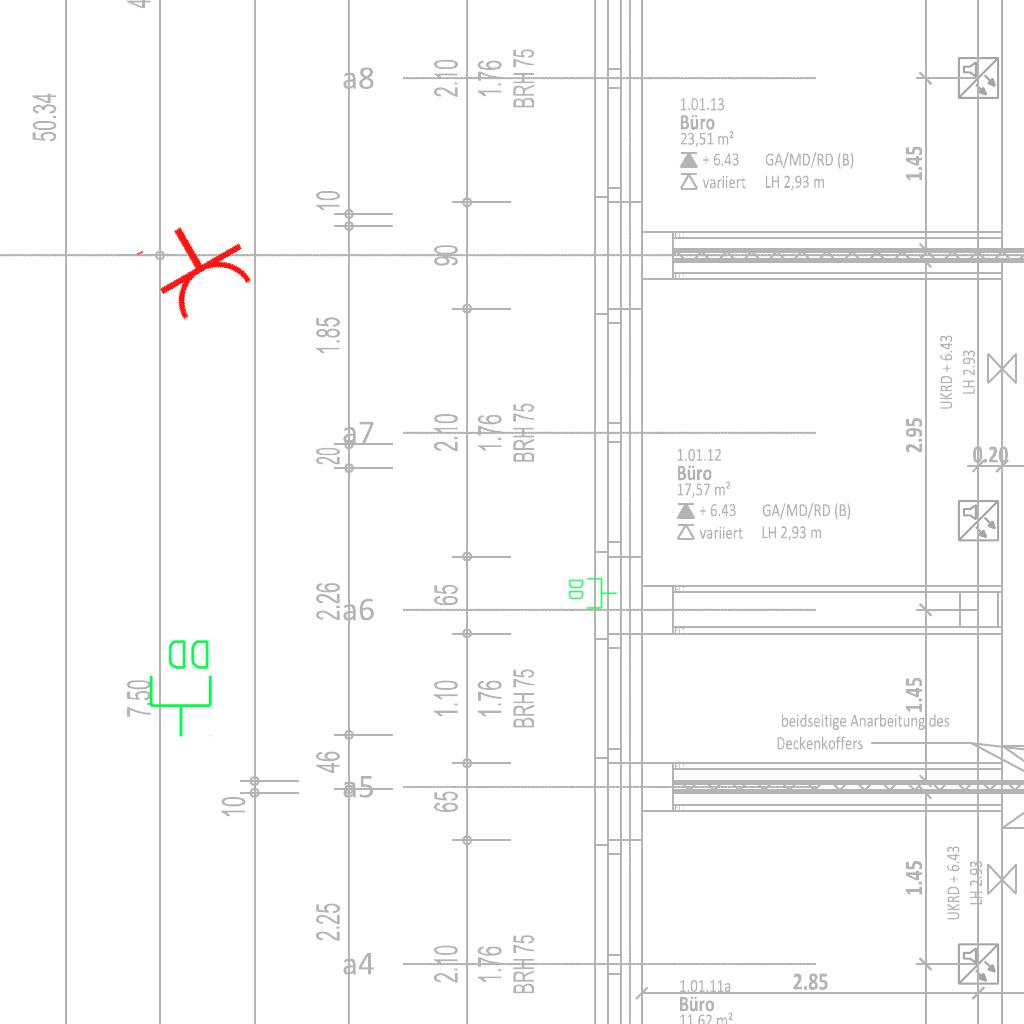Datenanschluss_zweifach: (147, 636, 216, 739), (567, 576, 618, 610)
Schukosteckdose_einfach: (131, 203, 262, 329)
